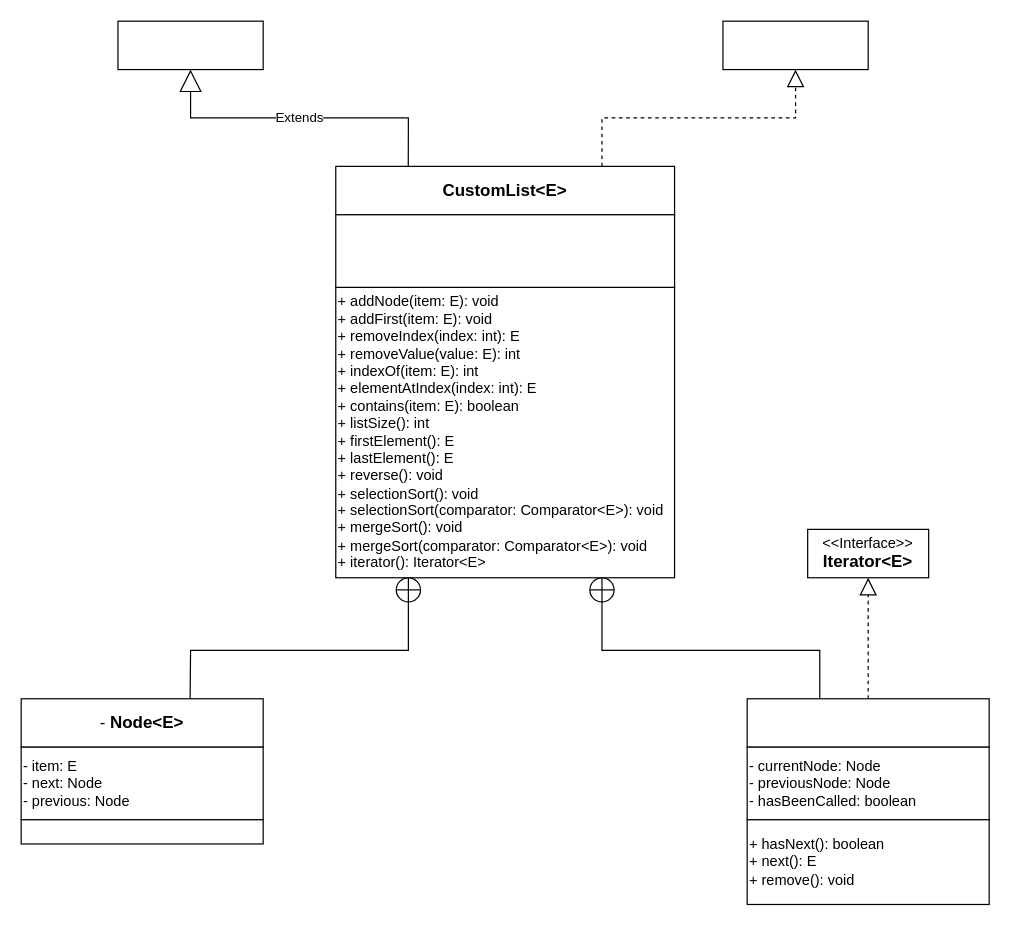
Some shapes in this 1010 by 926 pixel diagram are drawn without their labels. The centre of each missing label's shape, as x and y in pixels:
"- head: Node - tail: Node - size: int" goes at point 505,250.
"<<Interface>> Iterable<E>" goes at point 795,45.
"Comparable<E >" goes at point 190,45.
"CustomIterator" goes at point 867,722.
